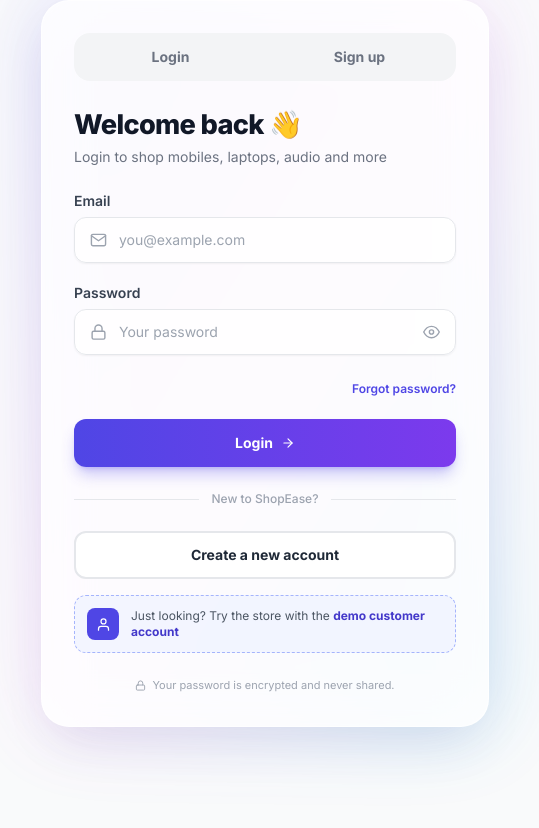
Login form › shows validation errors for empty submit
The width and height of the screenshot is (539, 828).
What coordinates should you click on to do the following:
click the button "Login"
I would click on:
 (265, 443)
Its box is [74,419,456,467].
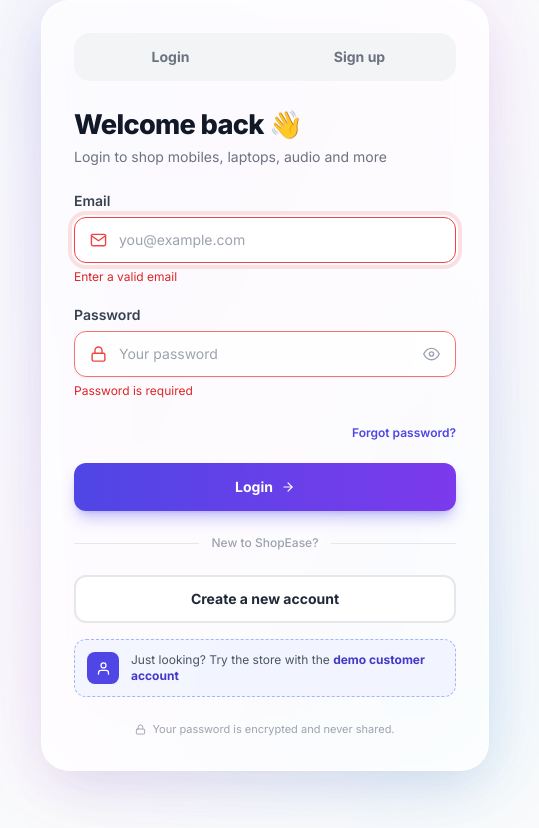
Expected: the text "Enter a valid email" is shown, [74,269,177,284]
Expected: the text "Password is required" is shown, [74,383,193,398]
